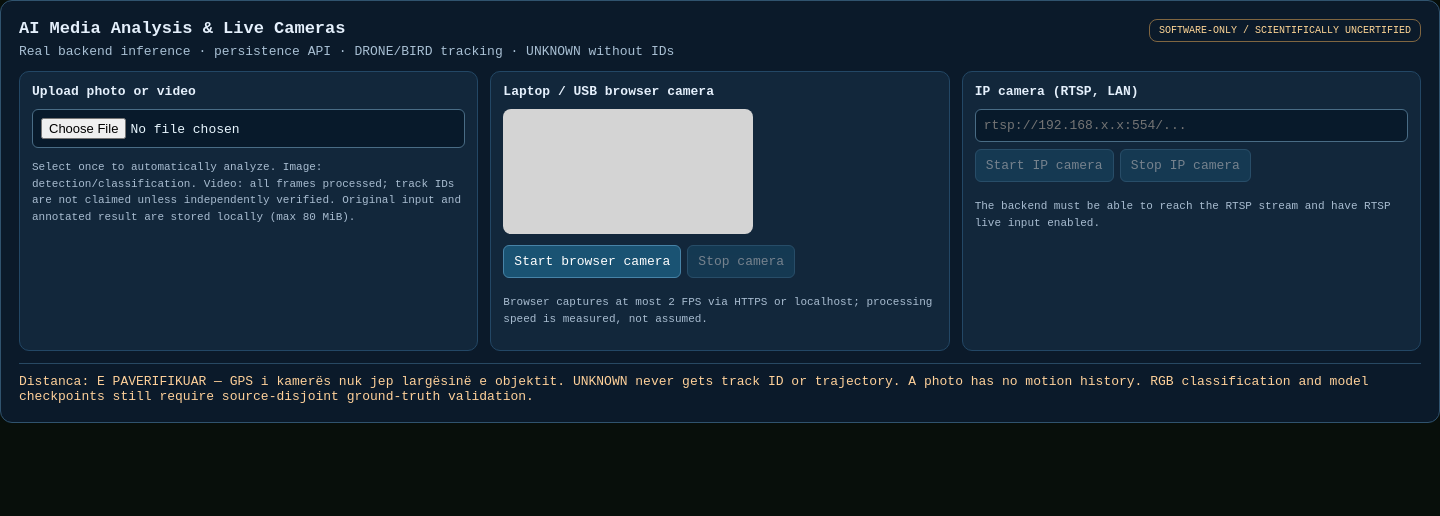
Test: the IP camera view reports a lost stream after waiting for the first frame
Type "rtsp://127.0.0.1/test" into the password field named "Private network RTSP URL" at (1191, 126), box [975, 109, 1408, 142]
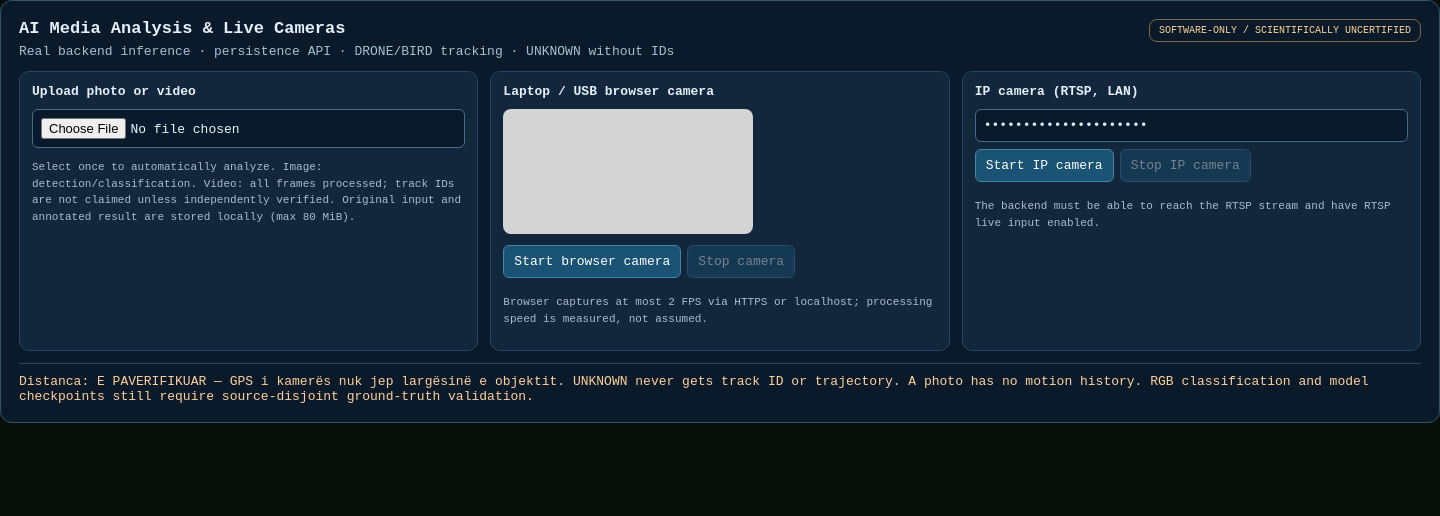
Click the button "Start IP camera" at (1044, 166), box [975, 149, 1114, 182]
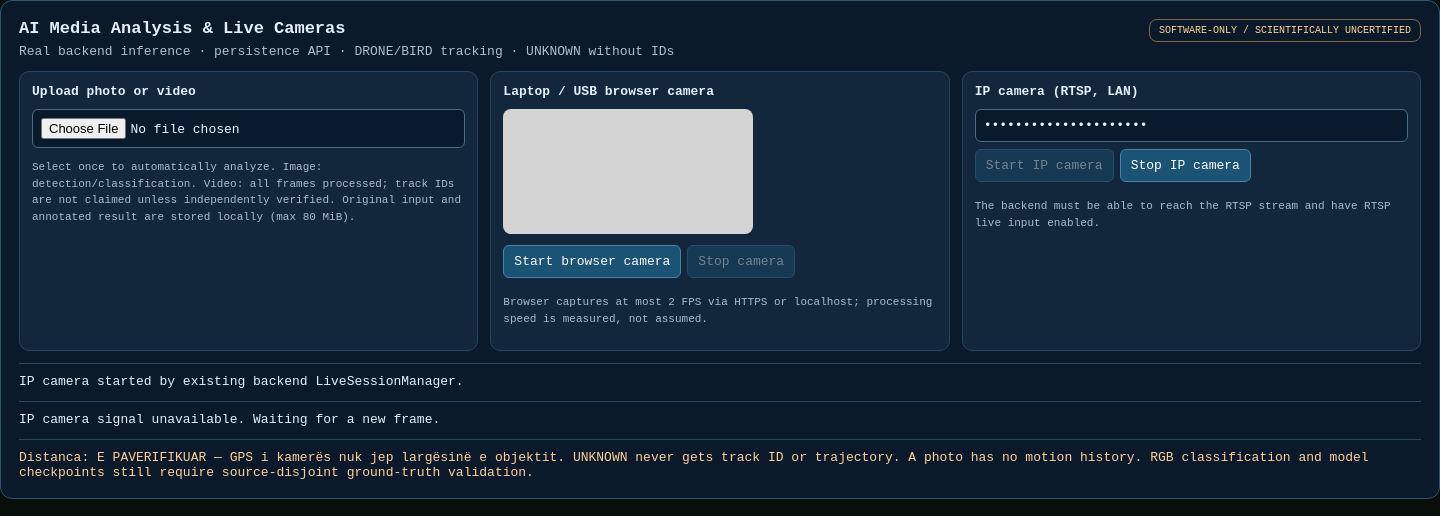
Check: the text "IP camera signal unavailable. Waiting for a new frame." is shown, box [19, 401, 1421, 427]
